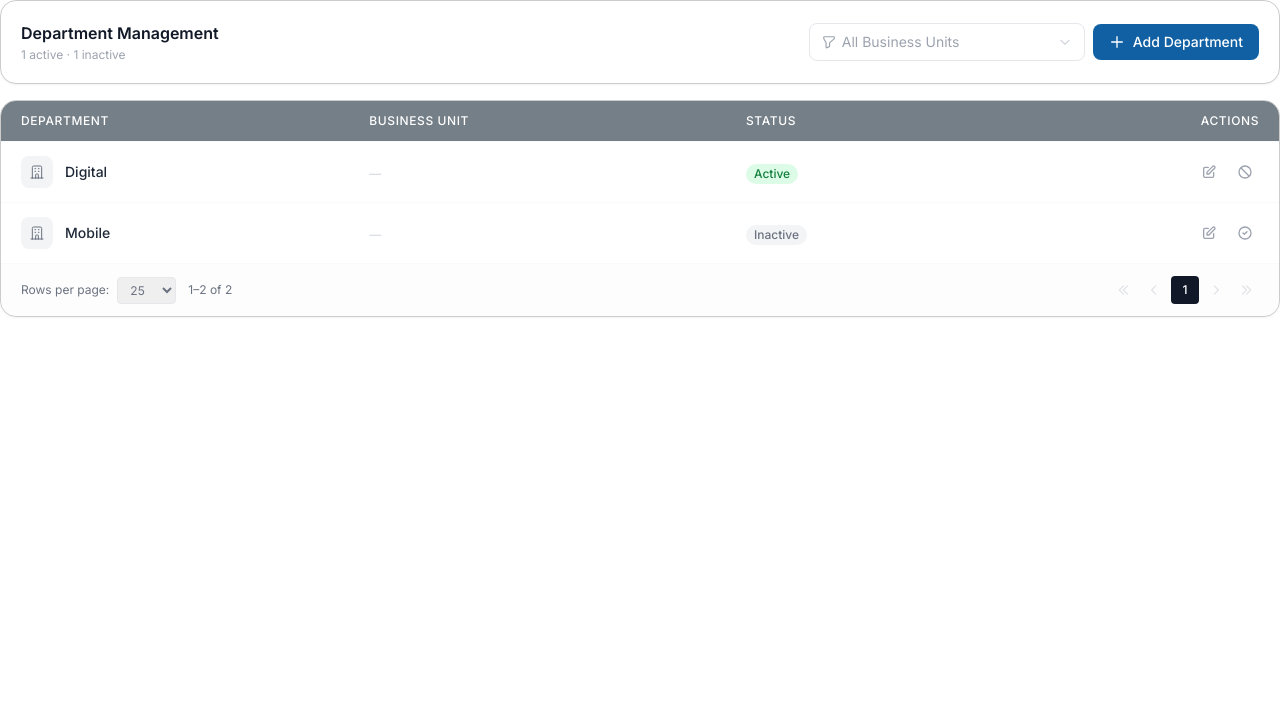
Test: DepartmentsPage_EditButton_OpensModalWithPrefilledName
Expected: the text "Digital" is shown, 65,162 -> 107,182
What coordinates should you click on to do the following:
click the button titled "Edit" in the row of "Digital"
I would click on:
 (1209, 172)
Its box is 1195,158 -> 1223,186.
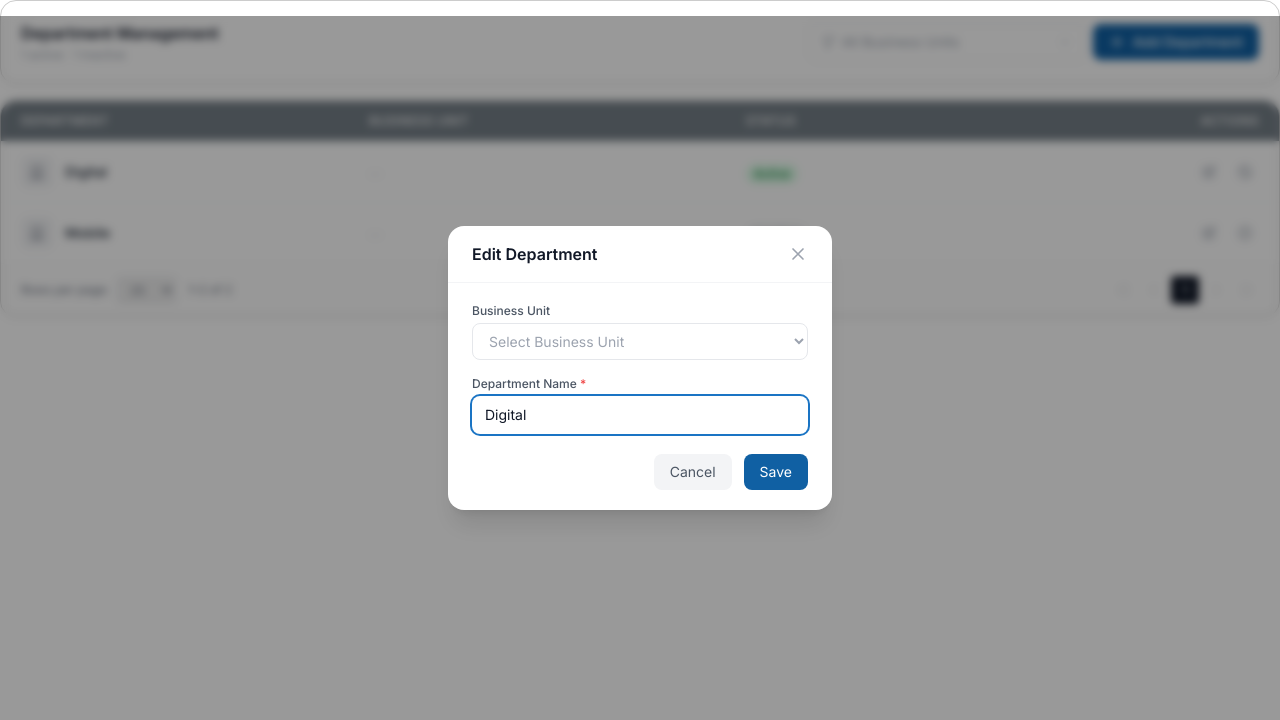
Now the heading "Edit Department" is shown, box 472,242 -> 598,266
Now the field showing "Digital" is shown, box 472,396 -> 808,434
